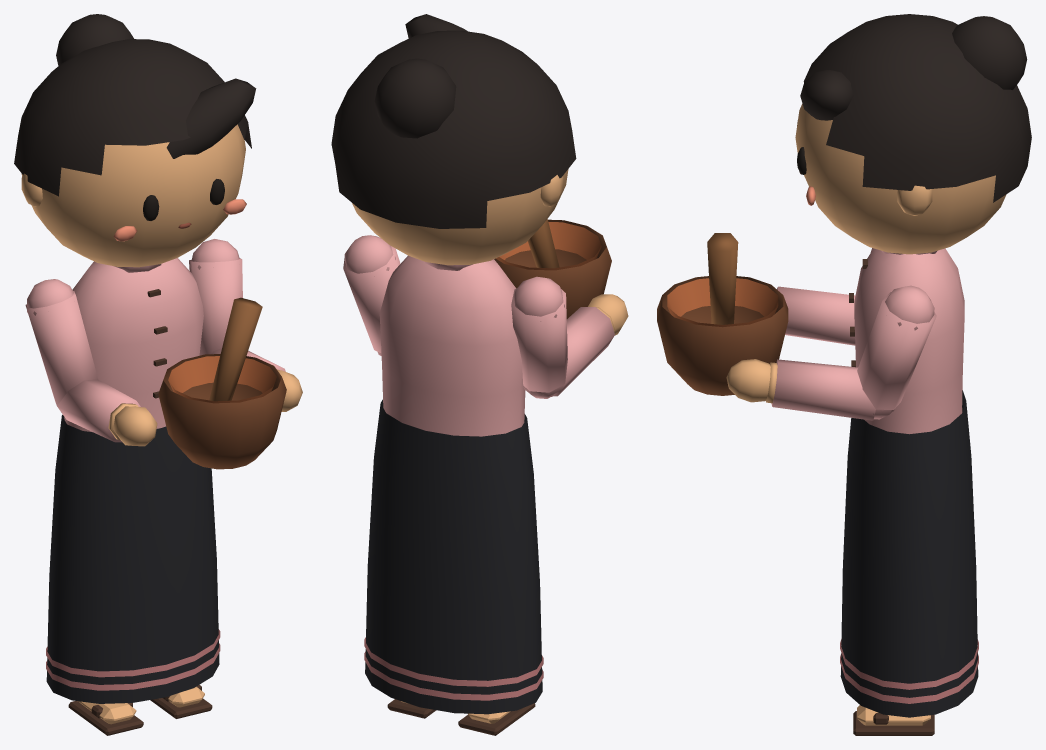
Rendered from isan_papaya_salad.glb.
3 views of the same model, side by side, from view 1: azimuth 30°, elevation 25°; view 2: azimuth 150°, elevation 25°; view 3: azimuth 270°, elevation 25° (orthographic). The views are drawn at different scales.
Visible parts, largest first — view 1: body, head, prop_mortar, arm_R, forearm_R, arm_L, shin_R, shin_L, forearm_L; view 2: body, head, prop_mortar, arm_R, arm_L, forearm_R, shin_R, shin_L; view 3: body, head, prop_mortar, forearm_L, arm_L, forearm_R, shin_L.
Boxes of the visible parts, box(x1,y1,x2,y2) form: body: box(46, 258, 220, 703); head: box(14, 14, 256, 267); prop_mortar: box(158, 297, 286, 469); arm_R: box(25, 279, 97, 412); forearm_R: box(57, 379, 157, 446); arm_L: box(189, 239, 242, 355); shin_R: box(68, 701, 143, 735); shin_L: box(150, 685, 212, 718); forearm_L: box(211, 348, 302, 411); body: box(364, 255, 543, 714); head: box(331, 14, 576, 265); prop_mortar: box(494, 219, 611, 318); arm_R: box(511, 276, 567, 398); arm_L: box(343, 235, 400, 355); forearm_R: box(523, 294, 628, 396); shin_R: box(458, 703, 535, 735); shin_L: box(387, 699, 436, 718); body: box(840, 248, 978, 717); head: box(795, 14, 1031, 254); prop_mortar: box(657, 233, 788, 395); forearm_L: box(726, 359, 894, 420); arm_L: box(857, 285, 936, 419); forearm_R: box(777, 286, 855, 345); shin_L: box(853, 705, 934, 735).
Bounding box in the file's own units: 0.4938 × 1.47 × 0.7239.
